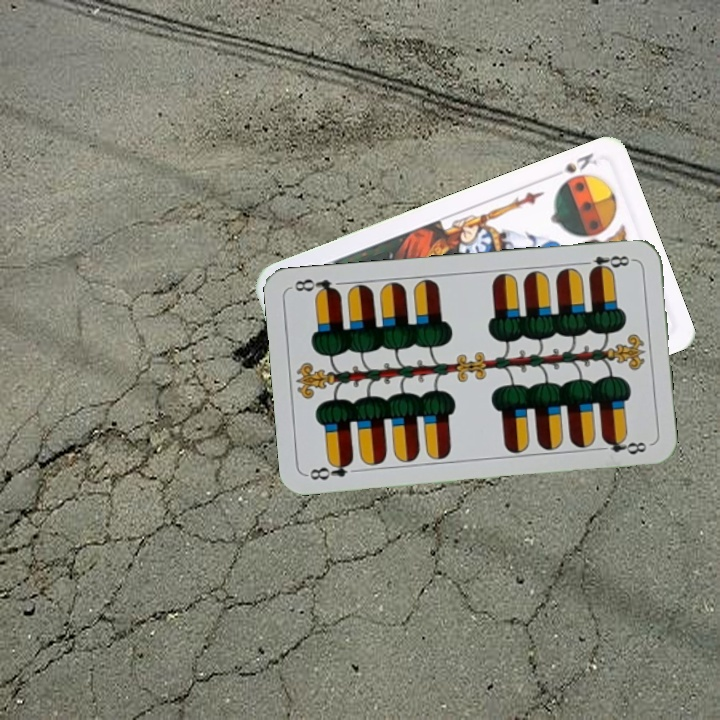E8: (577, 251, 636, 276), (304, 456, 356, 483)
SK: (546, 148, 599, 181)
